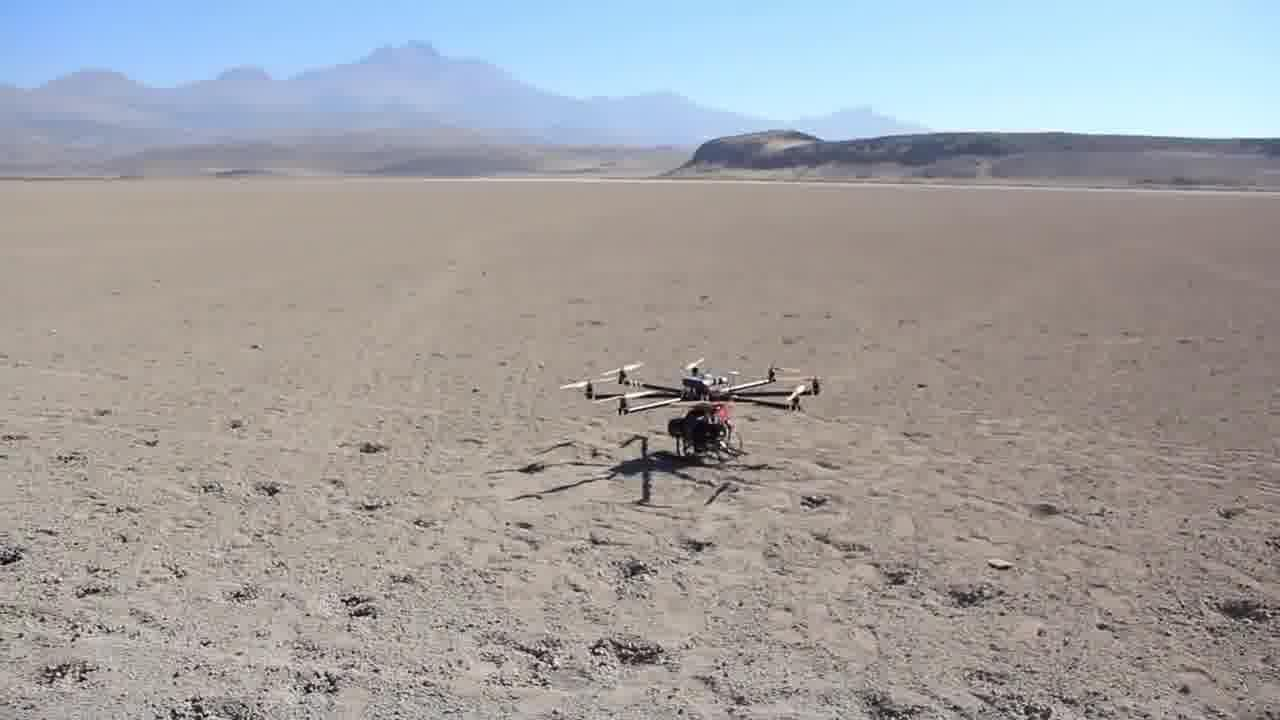drone: (566, 350, 816, 463)
